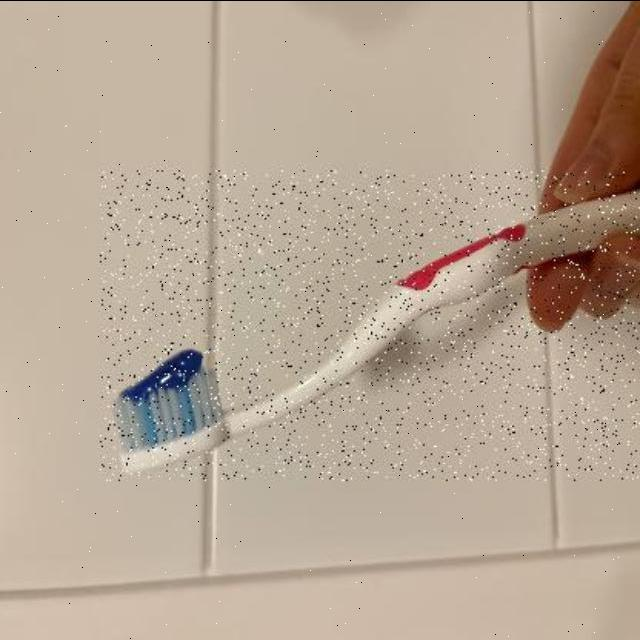toothbrush: (100, 170, 640, 480)
